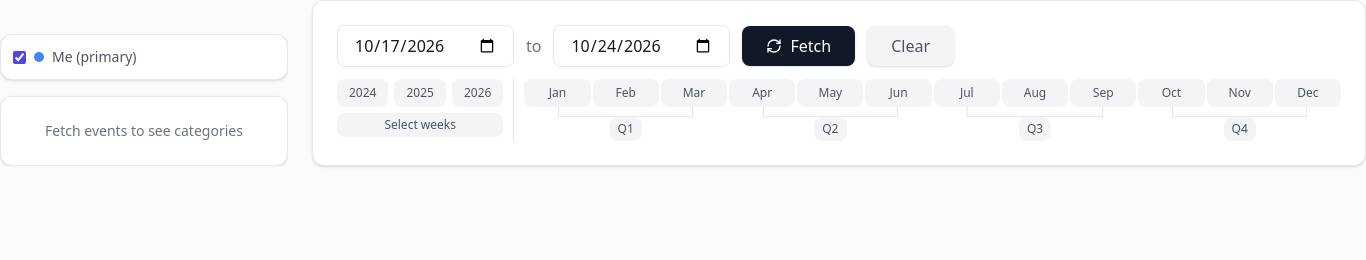
Test: Dashboard › shows a plain error, with no sign-in prompt, when the request fails
The image size is (1366, 260).
Click the button "Fetch".
click(799, 46)  # box [742,26,855,66]
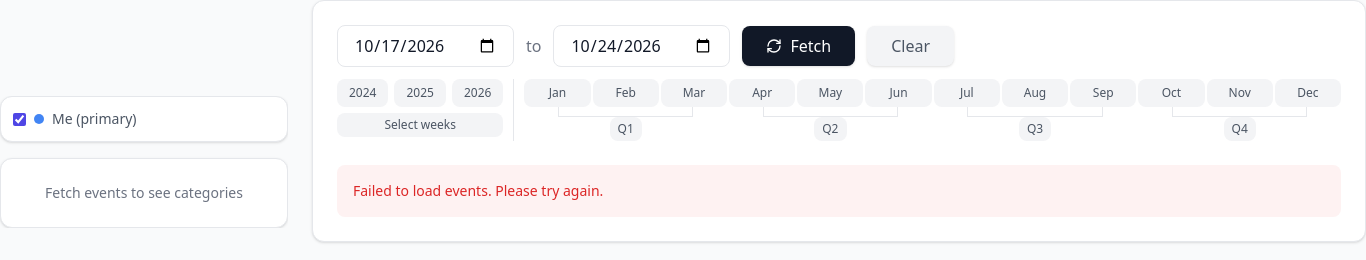
Expected: the message shows "Failed to load events", [353,181,603,200]
